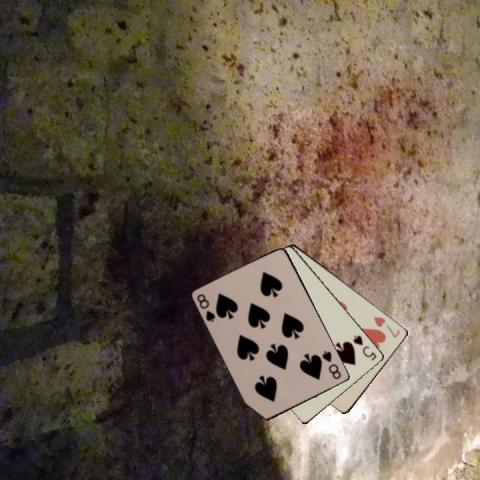5s: (351, 332, 378, 362)
7h: (371, 314, 402, 340)
8s: (319, 348, 343, 381), (194, 291, 217, 324)
